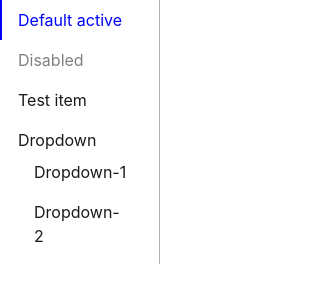
Test: Test Menu & MenuItem component › should show dropdown items default opened on vertical mode SubMenu
Expected: the list item "Dropdown-2" is shown, left=34, top=202, right=120, bottom=246
Click the text "Dropdown" at (57, 140), box left=18, top=130, right=96, bottom=150
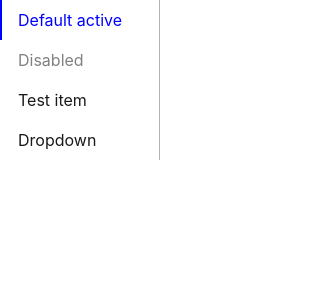
Expected: the list item "Dropdown-2" is gone
